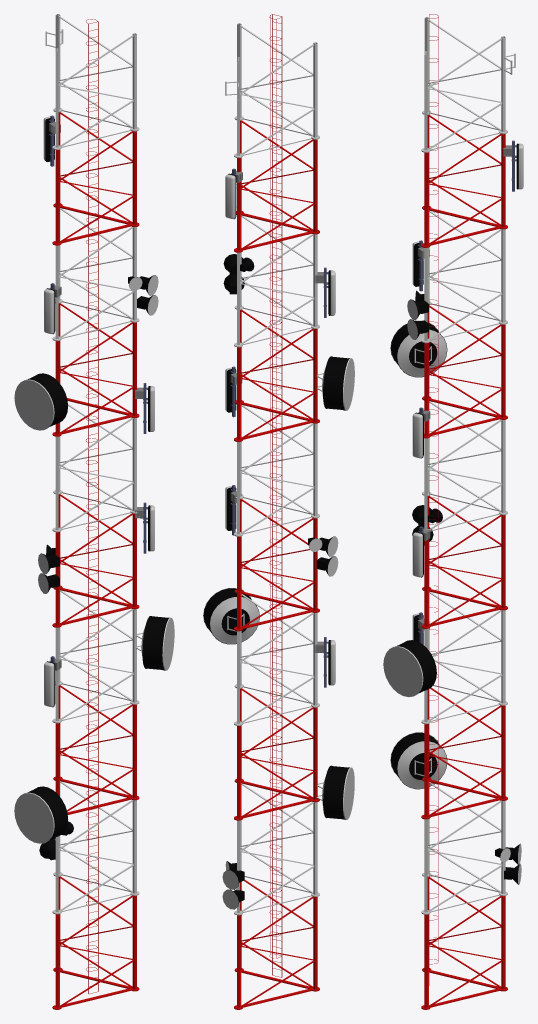
File: radio2.obj
3 views of the same model, side by side, from view 1: azimuth 30°, elevation 25°; view 2: azimuth 150°, elevation 25°; view 3: azimuth 270°, elevation 25° (orthographic).
Visible parts, largest first — view 1: o_radiotower_02; view 2: o_radiotower_02; view 3: o_radiotower_02.
Part boxes in pixels (<box>): o_radiotower_02: <box>14,14,174,1009</box>; o_radiotower_02: <box>203,14,354,1009</box>; o_radiotower_02: <box>383,14,523,1009</box>.
Size of the model in its own units: 0.9039 by 5.57 by 0.729.
